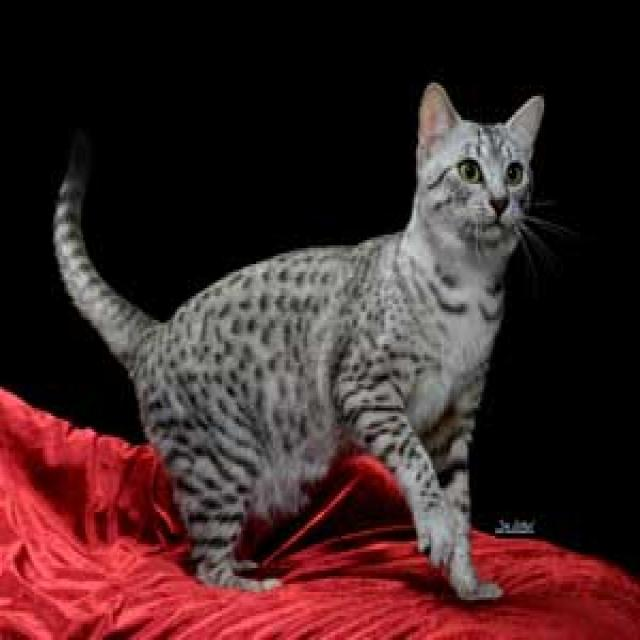Egyptian_Mau: (414, 78, 548, 256)
